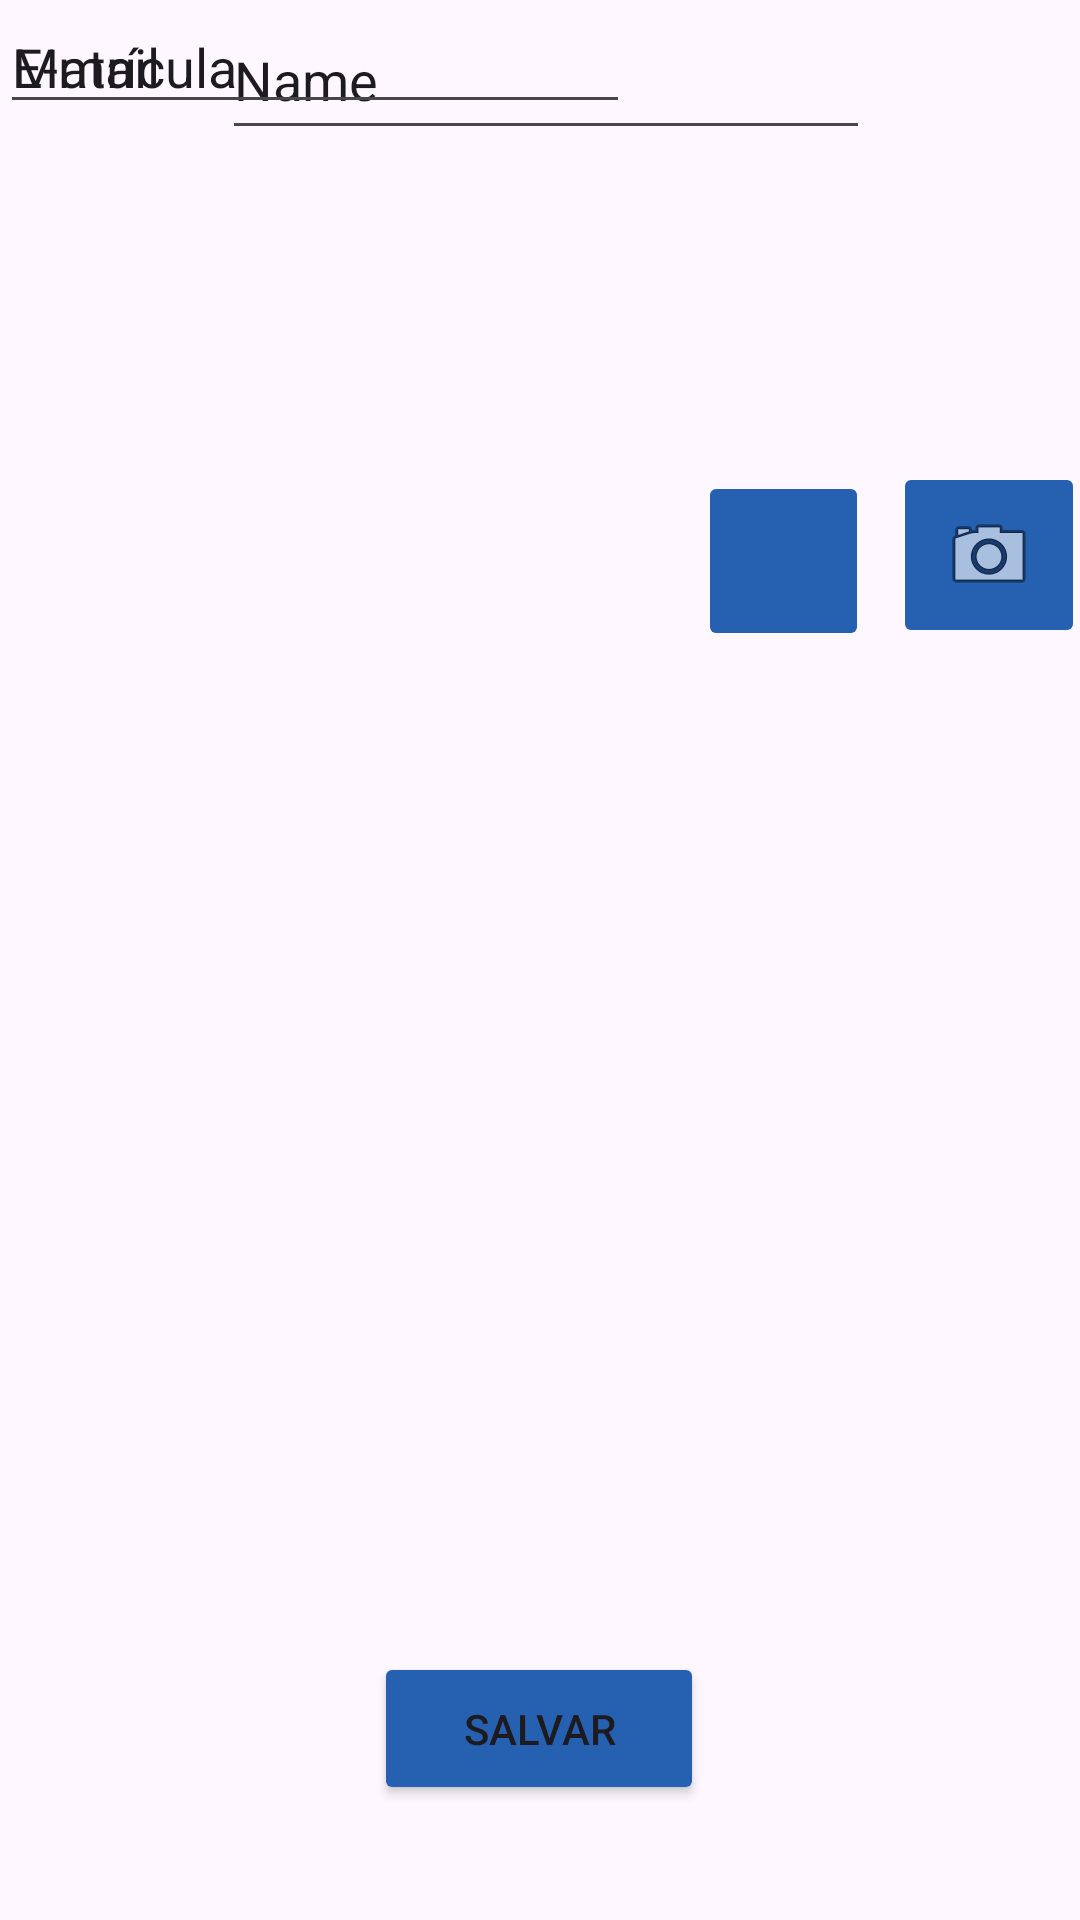

Named icons in this screenshot (1080px x 1920px) and their bounding boxes, (x1=x1, y1=y1, x2=x2, y2=y2):
camera: (x1=905, y1=480, x2=1073, y2=630)
